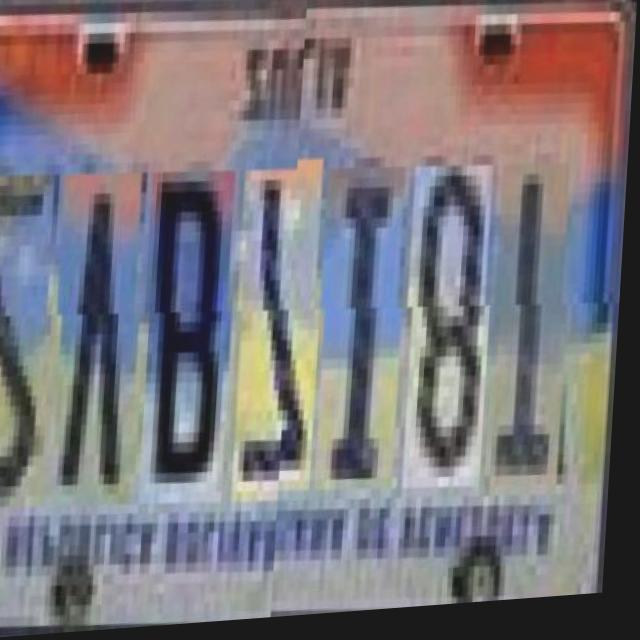2: (0, 161, 63, 500)
7: (237, 157, 332, 494)
8: (407, 164, 501, 493)
b: (145, 158, 243, 498)
i: (321, 166, 414, 495)
t: (496, 164, 579, 501)
v: (57, 160, 152, 499)
